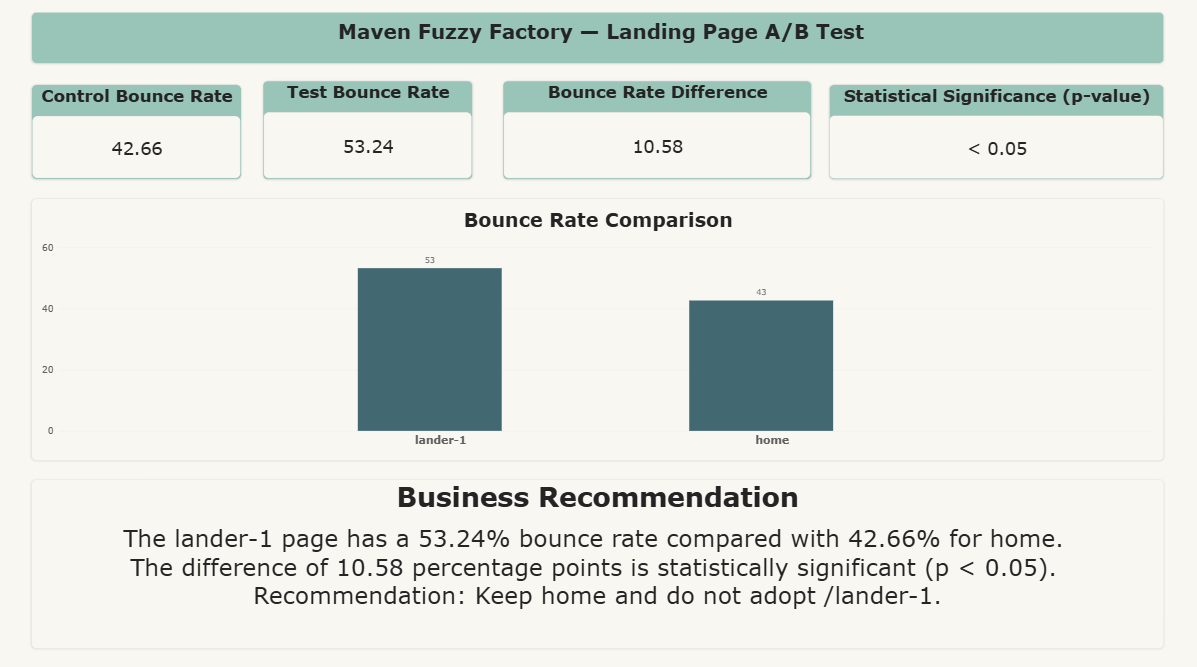

This screenshot's page, from the dashboard's own definition file:
{"tool":"powerbi","page":{"name":"Page 1","canvas":[1920,1080],"ordinal":0},"visuals":[{"type":"cardVisual","title":"Control Bounce Rate","fields":{"Data":["AB_Test_Results.Control Bounce Rate"]},"box":[52,140,336,152],"z":0},{"type":"cardVisual","title":"Test Bounce Rate","fields":{"Data":["AB_Test_Results.Test Bounce Rate"]},"box":[422,134,336,158],"z":1000},{"type":"cardVisual","title":"Bounce Rate Difference","fields":{"Data":["AB_Test_Results.Bounce Rate Difference"]},"box":[806,134,494,158],"z":2000},{"type":"clusteredColumnChart","title":"Bounce Rate Comparison","fields":{"Category":["AB_Test_Results.Landing Page"],"Y":["Sum(AB_Test_Results.Bounce Rate)"]},"box":[52,322,1812,420],"z":3000},{"type":"cardVisual","title":"Statistical Significance (p-value)","fields":{"Data":["AB_Test_Results.Statistical Significance"]},"box":[1328,140,536,152],"z":4000},{"type":"textbox","box":[52,772,1812,270],"z":5000},{"type":"textbox","box":[52,24,1812,82],"z":6000}]}

Visuals, with their boxes in screenshot pixels (x1, y1, x2, y2), scaled from the page's 1920x1080 canvas onto the 1197x667 screenshot:
"Control Bounce Rate" cardVisual: box(32, 86, 242, 180)
"Test Bounce Rate" cardVisual: box(263, 83, 473, 180)
"Bounce Rate Difference" cardVisual: box(502, 83, 810, 180)
"Bounce Rate Comparison" clusteredColumnChart: box(32, 199, 1162, 458)
"Statistical Significance (p-value)" cardVisual: box(828, 86, 1162, 180)
textbox: box(32, 477, 1162, 644)
textbox: box(32, 15, 1162, 65)
